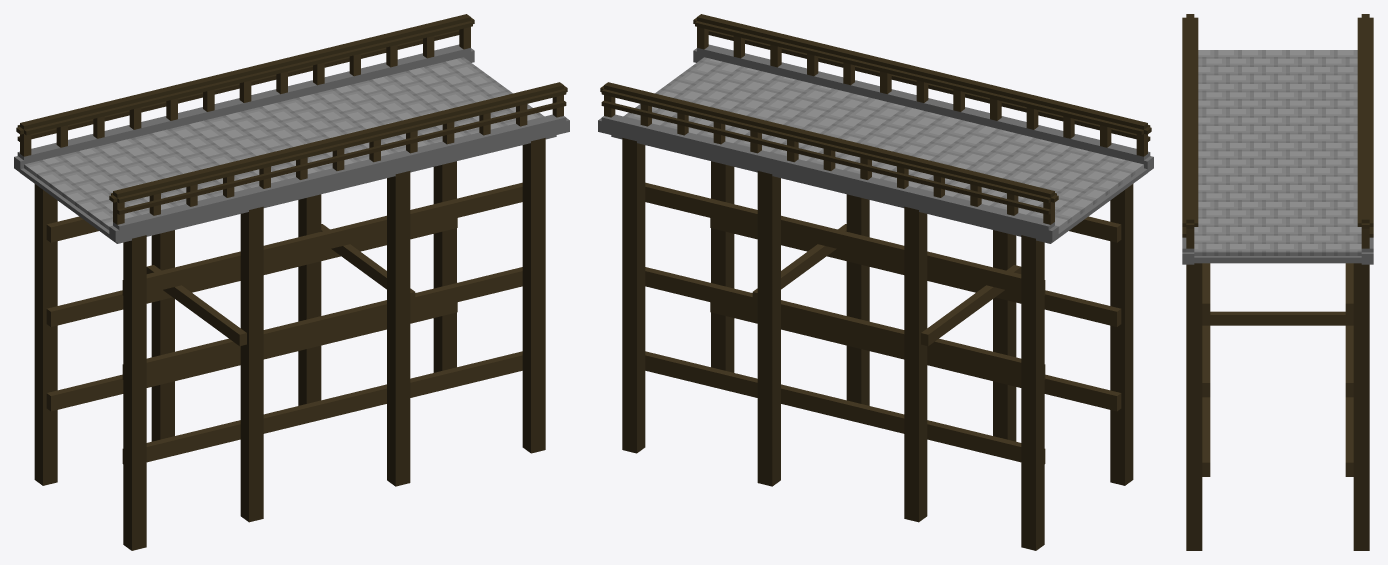
The model's file is Bridge1.obj.
3 views of the same model, side by side, from view 1: azimuth 30°, elevation 25°; view 2: azimuth 150°, elevation 25°; view 3: azimuth 270°, elevation 25° (orthographic). The views are drawn at different scales.
Bounding box in the file's own units: 12.4 × 9.4 × 4.8.
1 material, 1 textured.
